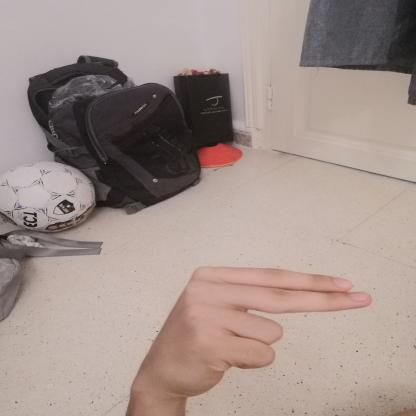AYN: (116, 254, 385, 403)
